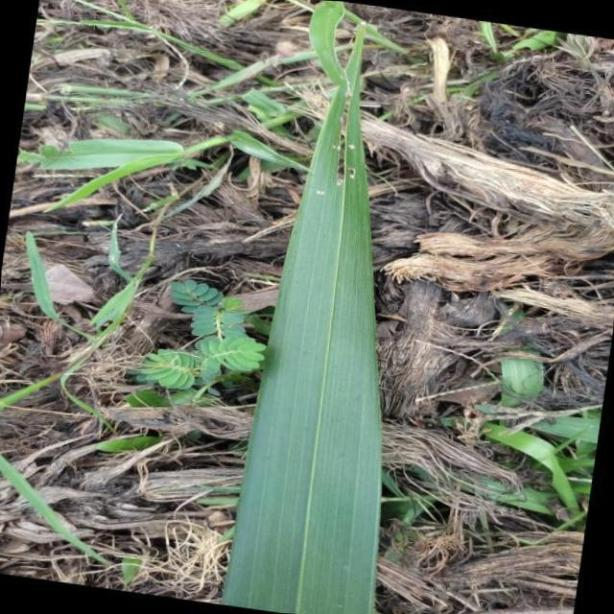Boron: (221, 0, 385, 614)
